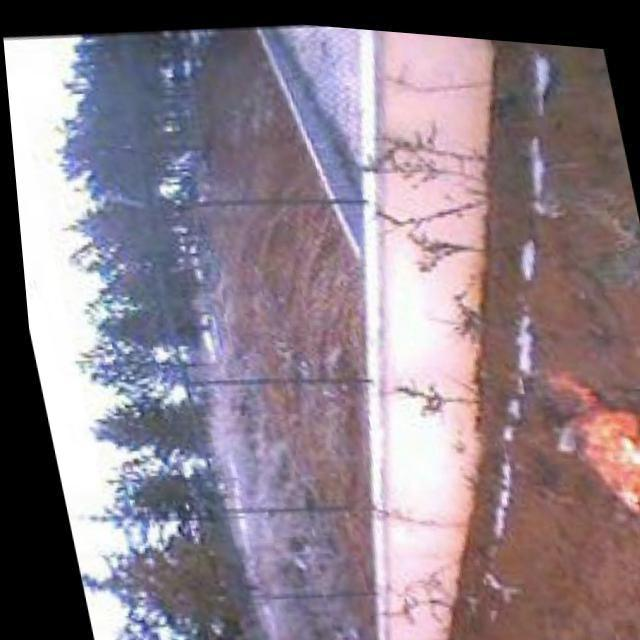fire: (536, 349, 640, 545)
